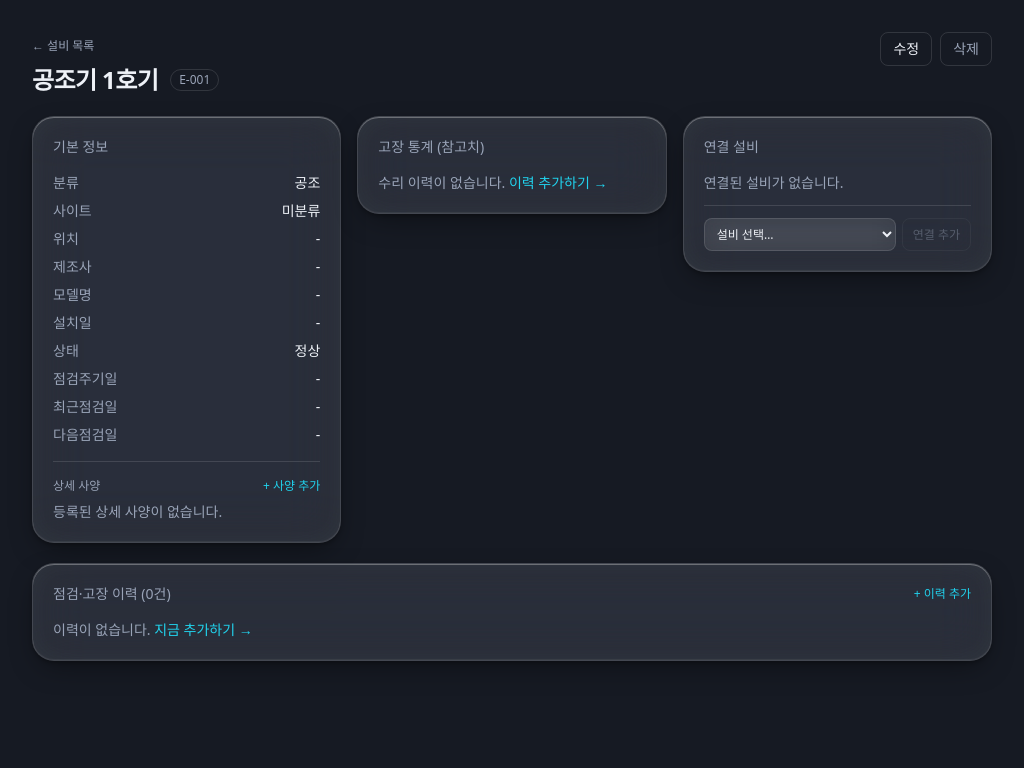
Test case: EquipmentDetail › 연결 추가 시 양쪽 설비의 연결설비 배열이 모두 갱신된다
Select "공조기 2호기 (E-002)" in the dropdown at [800, 234], box [704,218,896,251]
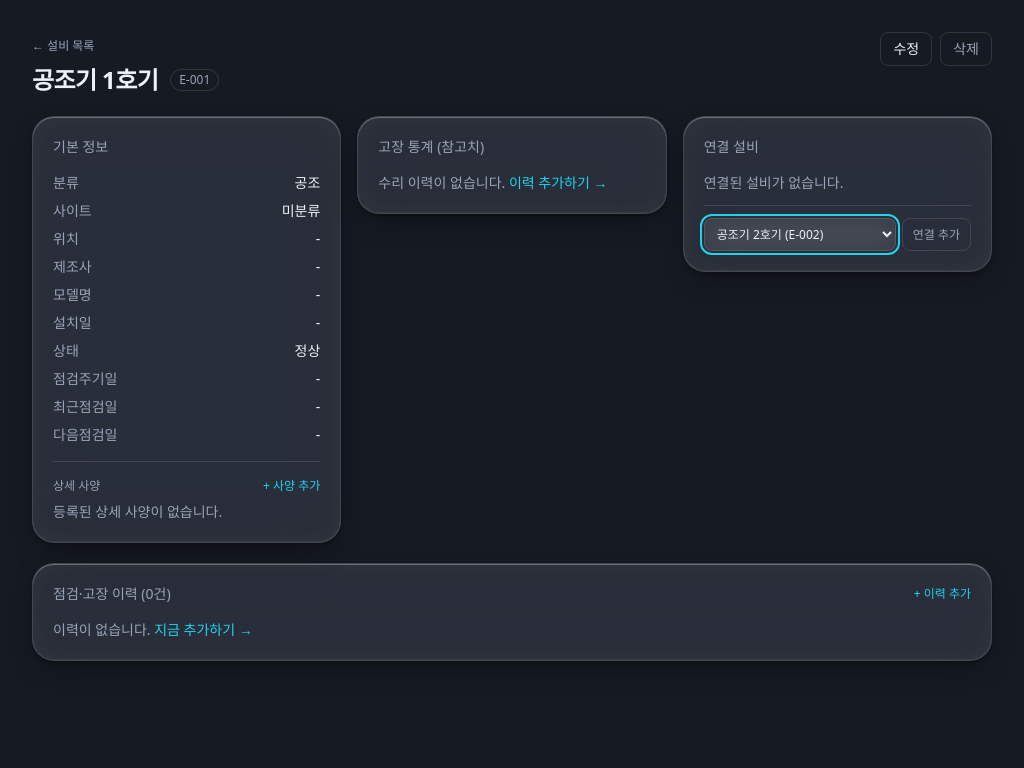
Click the button "연결 추가".
click(936, 234)  # box [902,218,971,251]
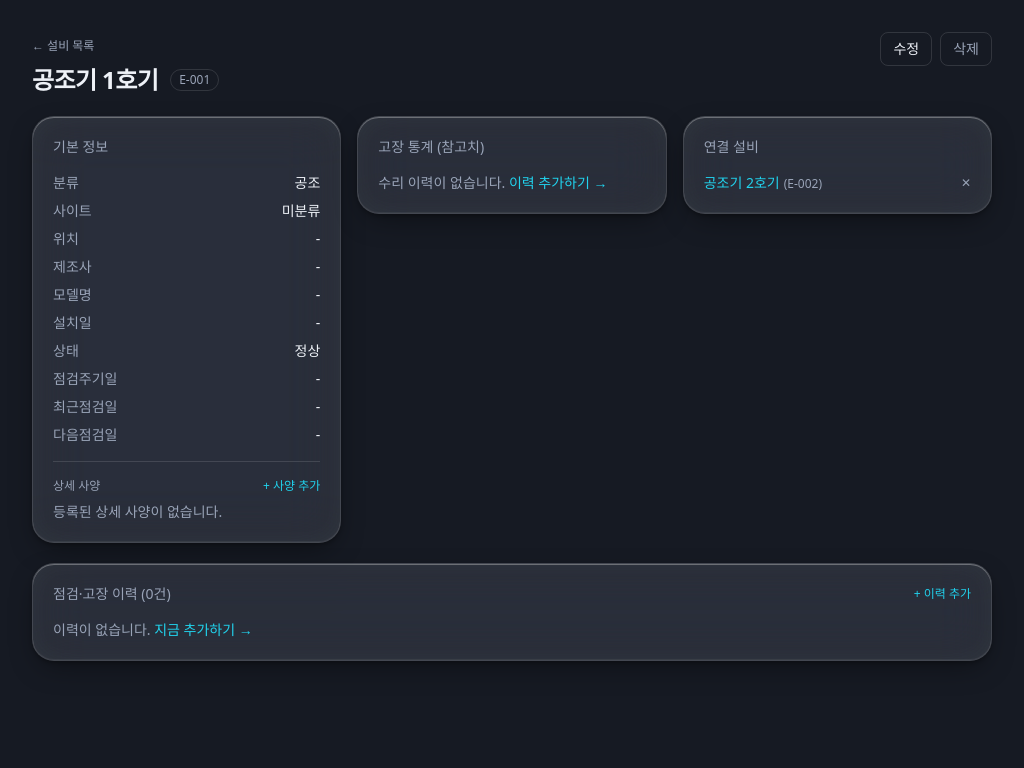
Expected: the link "공조기 2호기" is shown, [704,173,780,192]
